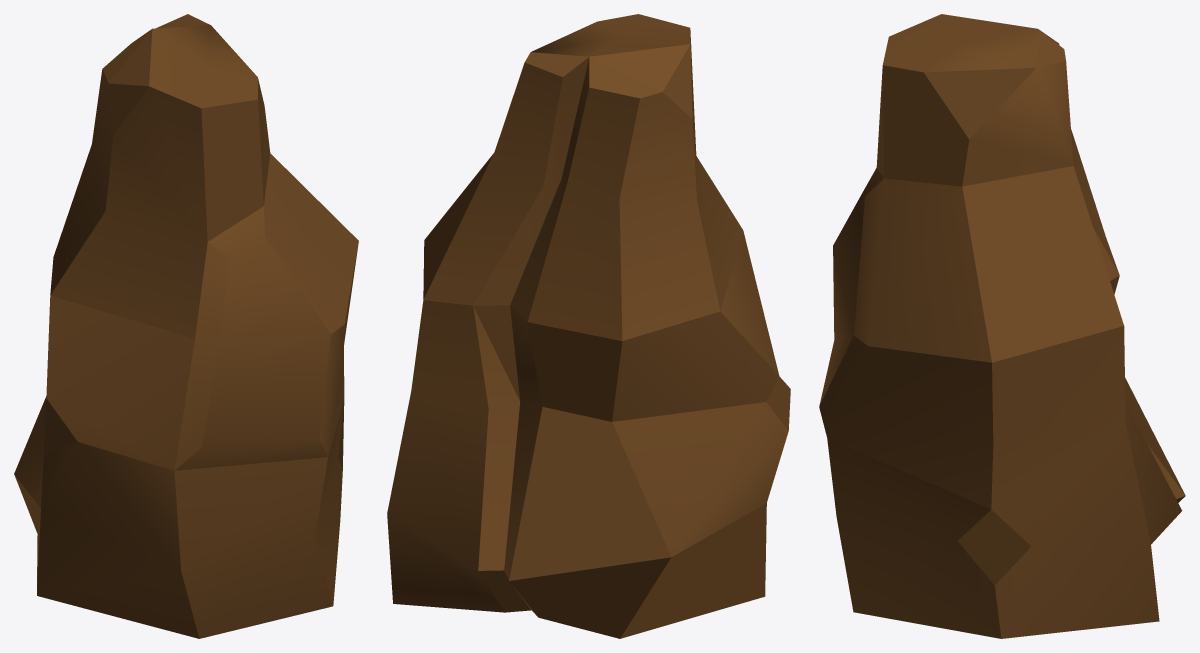
File: Rock4.FBX
3 views of the same model, side by side, from view 1: azimuth 30°, elevation 25°; view 2: azimuth 150°, elevation 25°; view 3: azimuth 270°, elevation 25° (orthographic). The views are drawn at different scales.
Visible parts, largest first — view 1: Rock4; view 2: Rock4; view 3: Rock4.
Boxes of the visible parts, bbox=[...] form: Rock4: bbox=[14, 14, 358, 638]; Rock4: bbox=[387, 14, 790, 638]; Rock4: bbox=[819, 14, 1185, 638].
Bounding box in the file's own units: 375 × 570 × 351.
